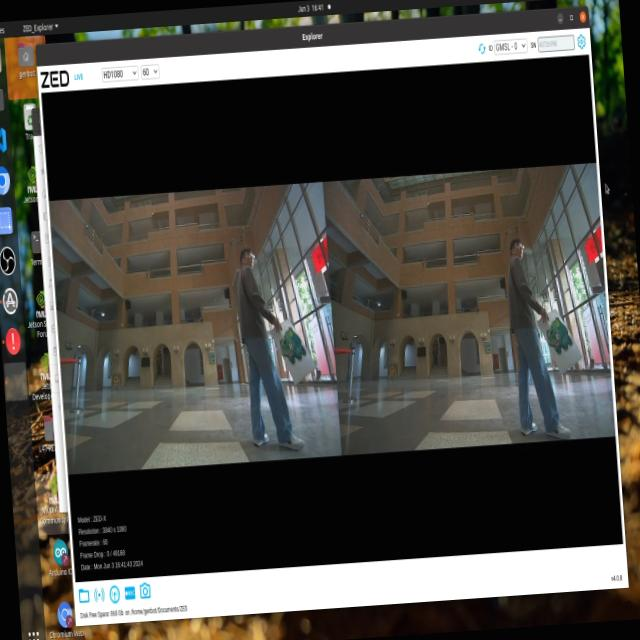green: (544, 320, 574, 358), (278, 319, 302, 364)
